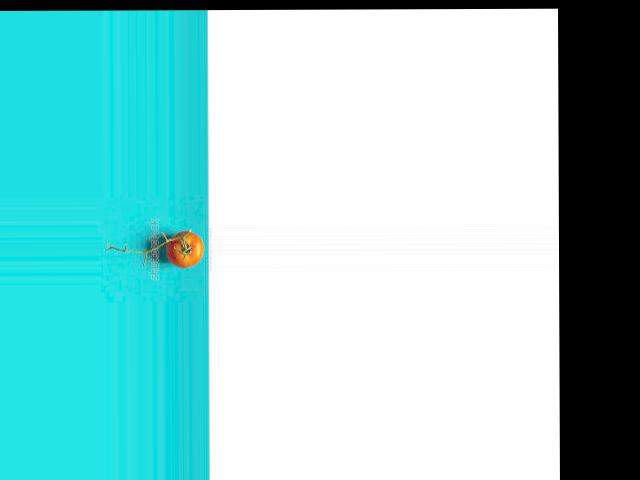tomato: (166, 229, 203, 267)
